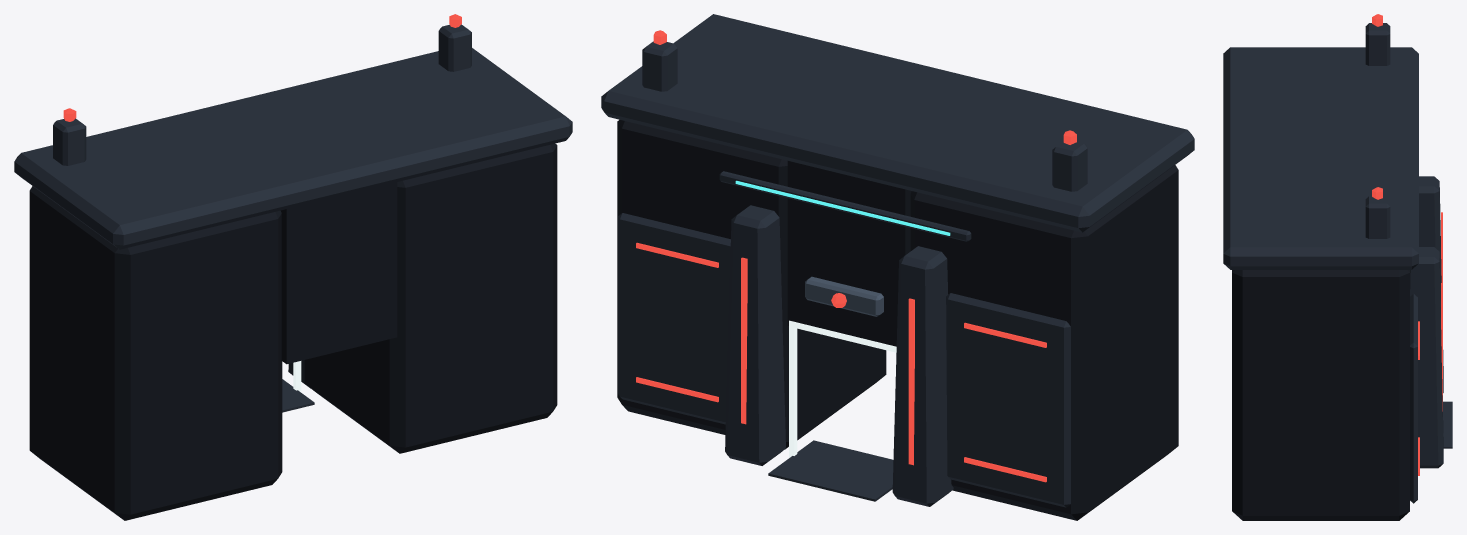
Rendered from Mono_Gatehouse.fbx.
The picture shows the model from 3 angles, left to right: view 1: azimuth 30°, elevation 25°; view 2: azimuth 150°, elevation 25°; view 3: azimuth 270°, elevation 25°; orthographic projection. The views are drawn at different scales.
Parts seen in each view (by area): view 1: Mono_Gatehouse; view 2: Mono_Gatehouse; view 3: Mono_Gatehouse.
Part boxes in pixels (x1,y1,x2,y2): Mono_Gatehouse: (14,14,572,520); Mono_Gatehouse: (601,14,1194,520); Mono_Gatehouse: (1223,14,1452,520).
Size of the model in its own units: 27.4 by 12.9 by 20.2.
